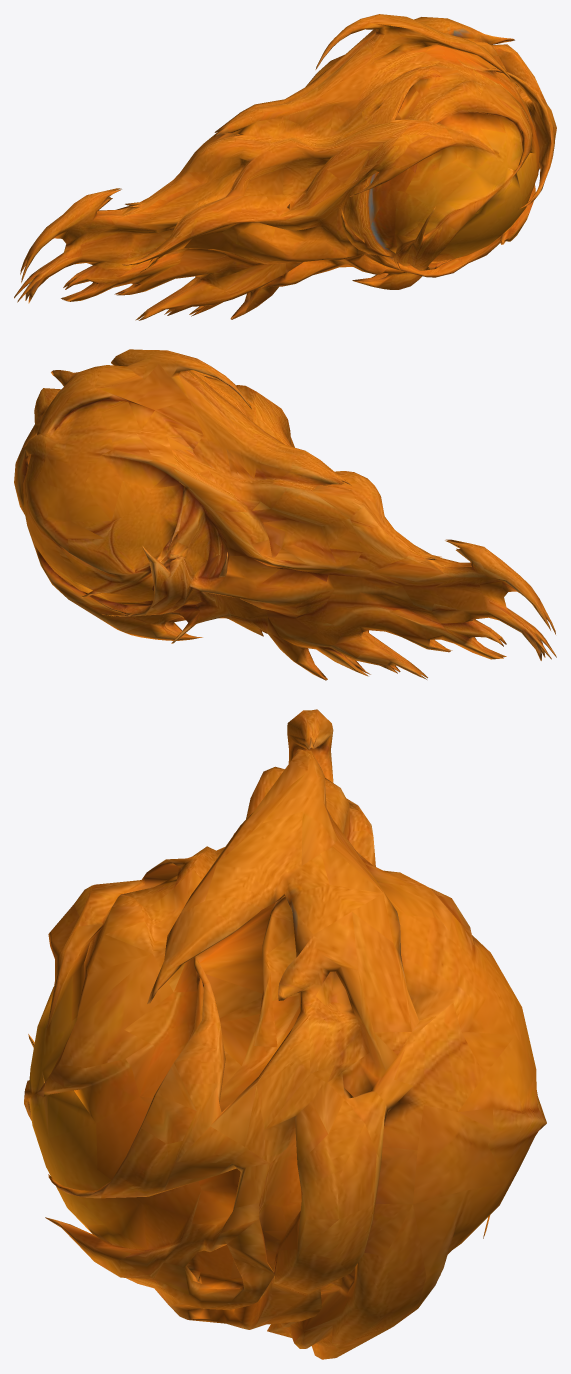
The model's file is light-ball.glb.
3 renders of one model, top to bottom at view 1: azimuth 30°, elevation 25°; view 2: azimuth 150°, elevation 25°; view 3: azimuth 270°, elevation 25°, orthographic. The views are drawn at different scales.
Visible parts, largest first — view 1: Mesh_0; view 2: Mesh_0; view 3: Mesh_0.
Part boxes in pixels (box(x1,y1,x2,y2)): Mesh_0: box(14, 14, 556, 320); Mesh_0: box(14, 349, 556, 680); Mesh_0: box(24, 709, 546, 1359).
Size of the model in its own units: 1.89 by 0.9694 by 0.8353.
1 material, 1 textured.
